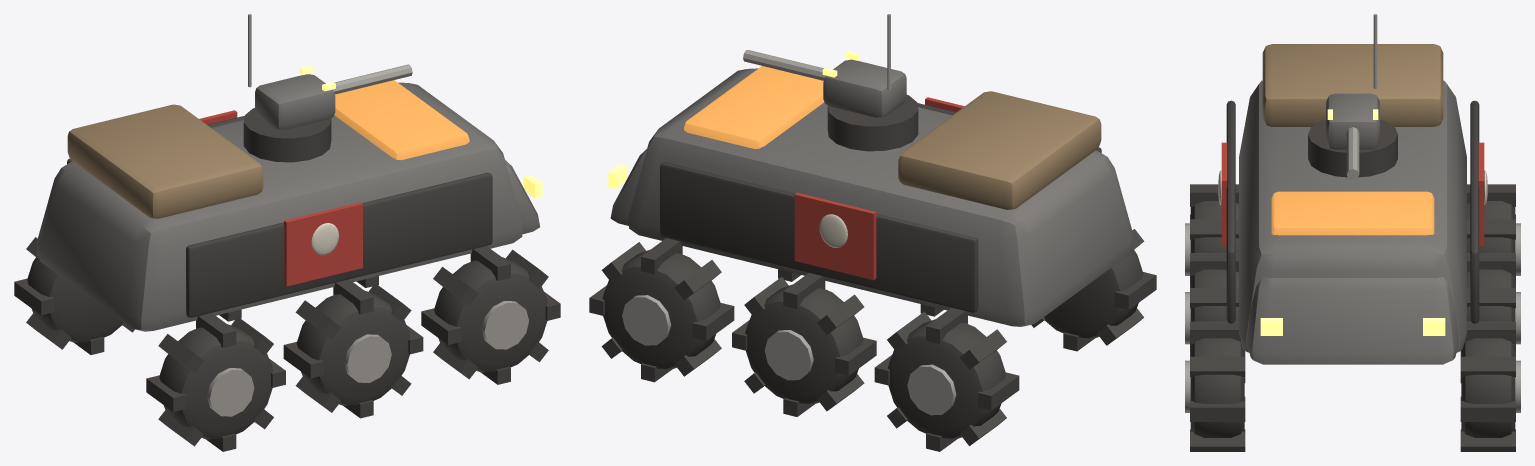
The model's file is hum_transporte.glb.
3 views of the same model, side by side, from view 1: azimuth 30°, elevation 25°; view 2: azimuth 150°, elevation 25°; view 3: azimuth 270°, elevation 25° (orthographic). The views are drawn at different scales.
Parts seen in each view (by area): view 1: hum_transporte, wheel_r1_m, wheel_r2_m, wheel_r0_m, turret_m, wheel_l2_m; view 2: hum_transporte, wheel_l2_m, wheel_l0_m, wheel_l1_m, turret_m, wheel_r2_m; view 3: hum_transporte, wheel_l0_m, wheel_r0_m, turret_m, wheel_l1_m, wheel_r1_m, wheel_l2_m, wheel_r2_m.
Boxes of the visible parts, x1,y1,x2,y2 form: hum_transporte: (36, 80, 542, 331); wheel_r1_m: (283, 279, 423, 418); wheel_r2_m: (146, 313, 285, 451); wheel_r0_m: (421, 246, 560, 384); turret_m: (243, 14, 412, 162); wheel_l2_m: (14, 237, 134, 354); hum_transporte: (608, 66, 1133, 326); wheel_l2_m: (874, 307, 1019, 451); wheel_l0_m: (589, 238, 734, 382); wheel_l1_m: (732, 273, 876, 416); turret_m: (743, 14, 918, 151); wheel_r2_m: (1031, 229, 1156, 351); hum_transporte: (1218, 44, 1487, 364); wheel_l0_m: (1460, 321, 1520, 451); wheel_r0_m: (1185, 321, 1245, 451); turret_m: (1308, 14, 1397, 180); wheel_l1_m: (1460, 253, 1520, 382); wheel_r1_m: (1185, 253, 1245, 382); wheel_l2_m: (1467, 184, 1520, 282); wheel_r2_m: (1185, 184, 1238, 282).
Bounding box in the file's own units: 1.09 × 0.8575 × 0.7448.
